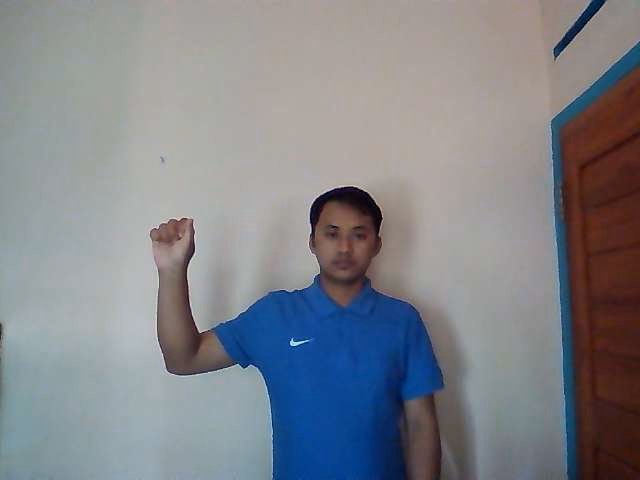A: (149, 216, 197, 268)
